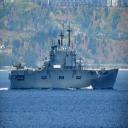Portanaves: (9, 19, 120, 92)
